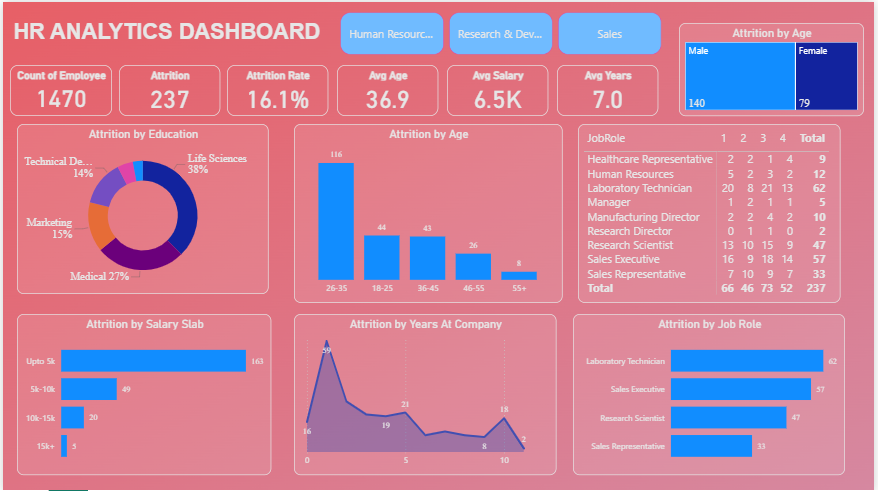

The page's visual inventory and layout, read from the dashboard file:
{"tool":"powerbi","page":{"name":"Page 1","canvas":[1280,720],"ordinal":0},"visuals":[{"type":"card","title":"Count of Employee","fields":{"Values":["Count(HR_Analytics.EmpID)"]},"box":[10.1,92.5,150.4,75.2],"z":0},{"type":"card","title":"Attrition","fields":{"Values":["Sum(HR_Analytics.AttritionCount)"]},"box":[170.6,92.5,148.9,75.2],"z":1000},{"type":"card","title":"Attrition Rate","fields":{"Values":["HR_Analytics.AttitionRate"]},"box":[329.6,92.5,148.9,75.2],"z":2000},{"type":"card","title":"Avg Age","fields":{"Values":["Avg(HR_Analytics.Age)"]},"box":[491.6,92.5,148.9,75.2],"z":3000},{"type":"card","title":"Avg Salary","fields":{"Values":["Avg(HR_Analytics.MonthlyIncome)"]},"box":[653.5,92.5,148.9,75.2],"z":4000},{"type":"card","title":"Avg Years ","fields":{"Values":["Avg(HR_Analytics.YearsAtCompany)"]},"box":[814,92.5,148.9,75.2],"z":5000},{"type":"donutChart","title":"Attrition by Education","fields":{"Category":["HR_Analytics.EducationField"],"Y":["Sum(HR_Analytics.AttritionCount)"]},"box":[20.2,179.3,370.1,250.1],"z":6000},{"type":"columnChart","title":"Attrition by Age","fields":{"Y":["Sum(HR_Analytics.AttritionCount)"],"Category":["HR_Analytics.AgeGroup"]},"box":[428,179.3,394.7,263.1],"z":7000},{"type":"pivotTable","fields":{"Rows":["HR_Analytics.JobRole"],"Columns":["HR_Analytics.JobSatisfaction"],"Values":["Sum(HR_Analytics.AttritionCount)"]},"box":[845.8,179.3,386,263.1],"z":8000},{"type":"barChart","title":"Attrition by Salary Slab","fields":{"Category":["HR_Analytics.SalarySlab"],"Y":["Sum(HR_Analytics.AttritionCount)"]},"box":[20.2,458.3,374.5,237.1],"z":9000},{"type":"barChart","title":"Attrition by Job Role","fields":{"Y":["Sum(HR_Analytics.AttritionCount)"],"Category":["HR_Analytics.JobRole"]},"box":[838.6,458.3,400.5,237.1],"z":10000},{"type":"areaChart","title":"Attrition by Years At Company","fields":{"Y":["Sum(HR_Analytics.AttritionCount)"],"Category":["HR_Analytics.YearsAtCompany"]},"box":[428,458.3,386,237.1],"z":11000},{"type":"treemap","title":"Attrition by Age","fields":{"Values":["Sum(HR_Analytics.AttritionCount)"],"Group":["HR_Analytics.Gender"]},"box":[994.7,30.4,271.8,137.3],"z":12000},{"type":"advancedSlicerVisual","fields":{"Values":["HR_Analytics.Department"]},"box":[491.6,10.1,484.3,72.3],"z":13000},{"type":"textbox","box":[10.1,20.2,467,52],"z":13001}]}

Visuals, with their boxes in screenshot pixels (x1, y1, x2, y2), scaled from the page's 1280x720 canvas onto the 878x491 screenshot:
"Count of Employee" card: (7,63,110,114)
"Attrition" card: (117,63,219,114)
"Attrition Rate" card: (226,63,328,114)
"Avg Age" card: (337,63,439,114)
"Avg Salary" card: (448,63,550,114)
"Avg Years " card: (558,63,660,114)
"Attrition by Education" donutChart: (14,122,268,293)
"Attrition by Age" columnChart: (294,122,564,302)
pivotTable - HR_Analytics.JobRole x HR_Analytics.JobSatisfaction: (580,122,845,302)
"Attrition by Salary Slab" barChart: (14,313,271,474)
"Attrition by Job Role" barChart: (575,313,850,474)
"Attrition by Years At Company" areaChart: (294,313,558,474)
"Attrition by Age" treemap: (682,21,869,114)
advancedSlicerVisual - HR_Analytics.Department: (337,7,669,56)
textbox: (7,14,327,49)
